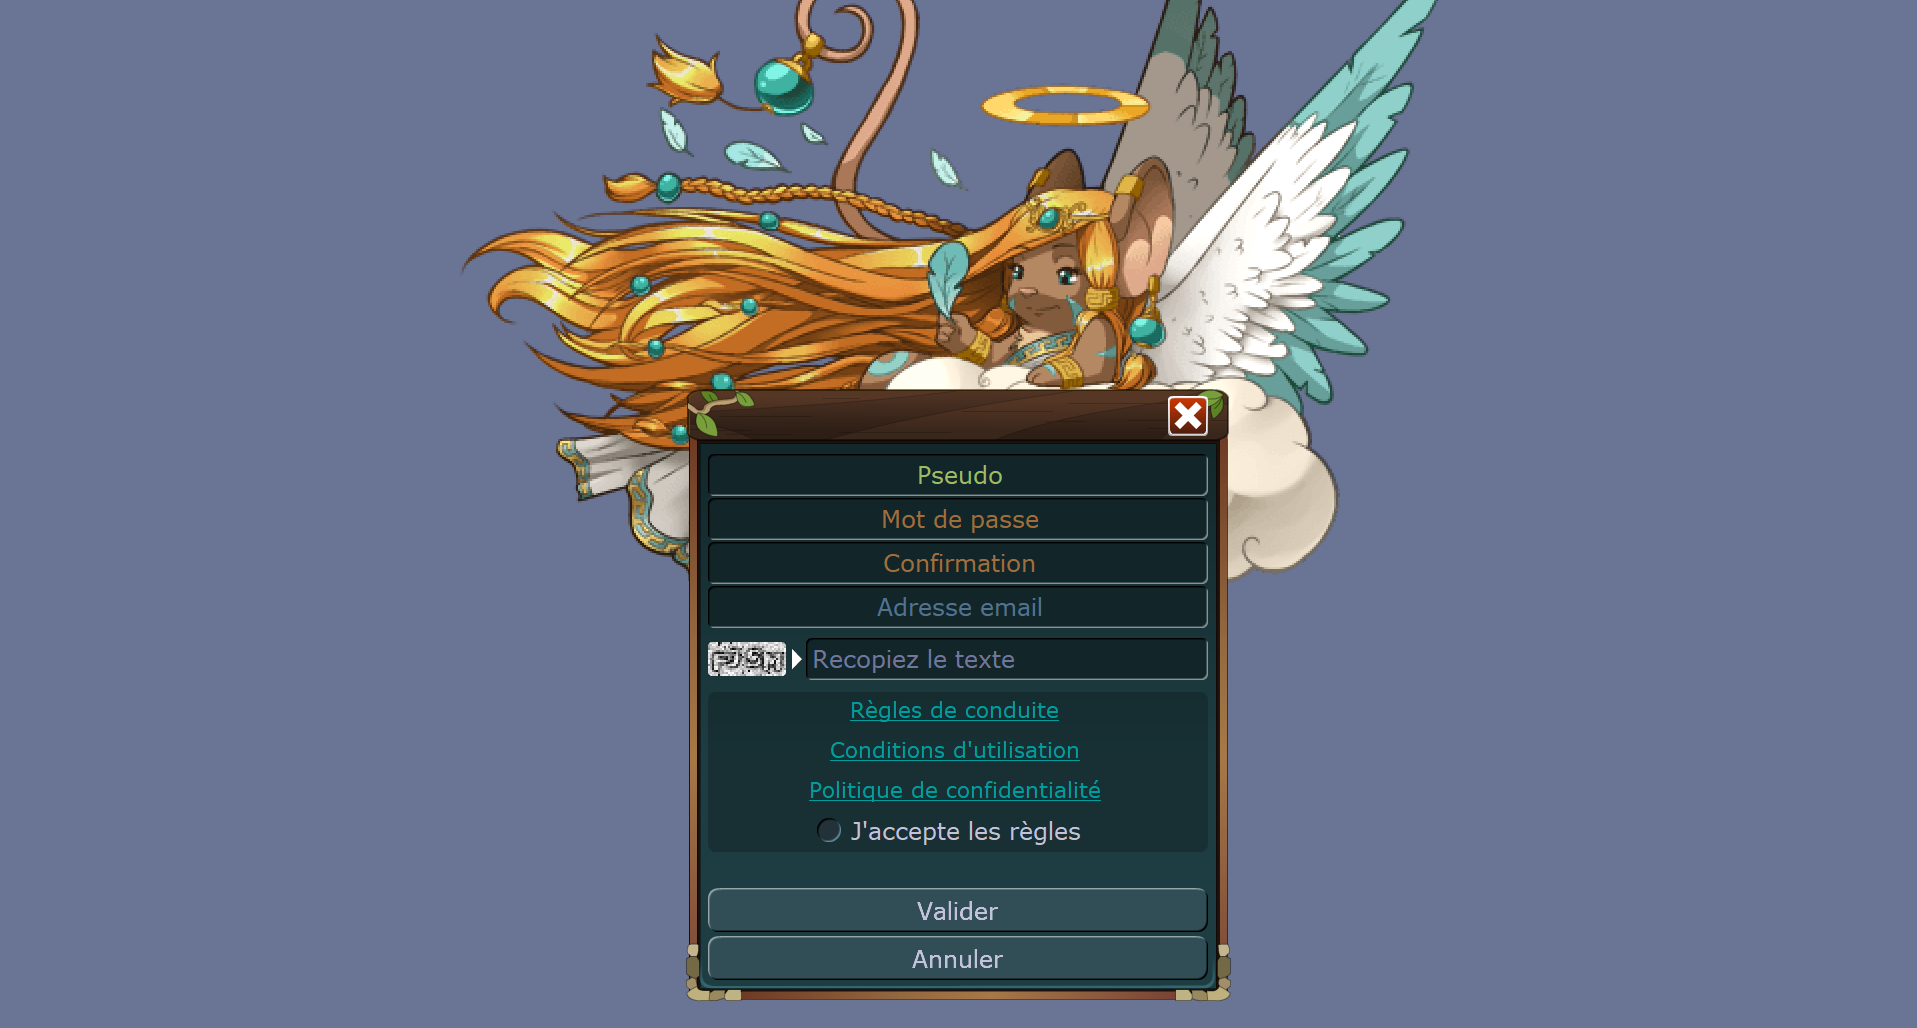CAPTCHA: (707, 641, 786, 676)
F: (711, 650, 729, 676)
J: (728, 645, 743, 671)
M: (762, 650, 784, 674)
S: (744, 646, 762, 669)
